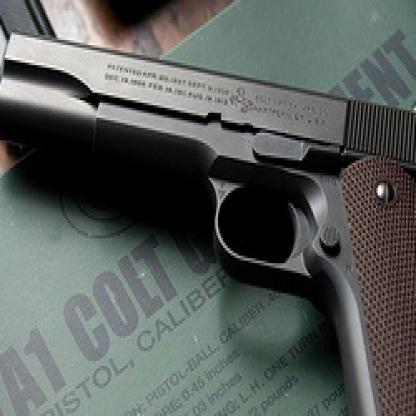gun: (0, 25, 415, 414)
